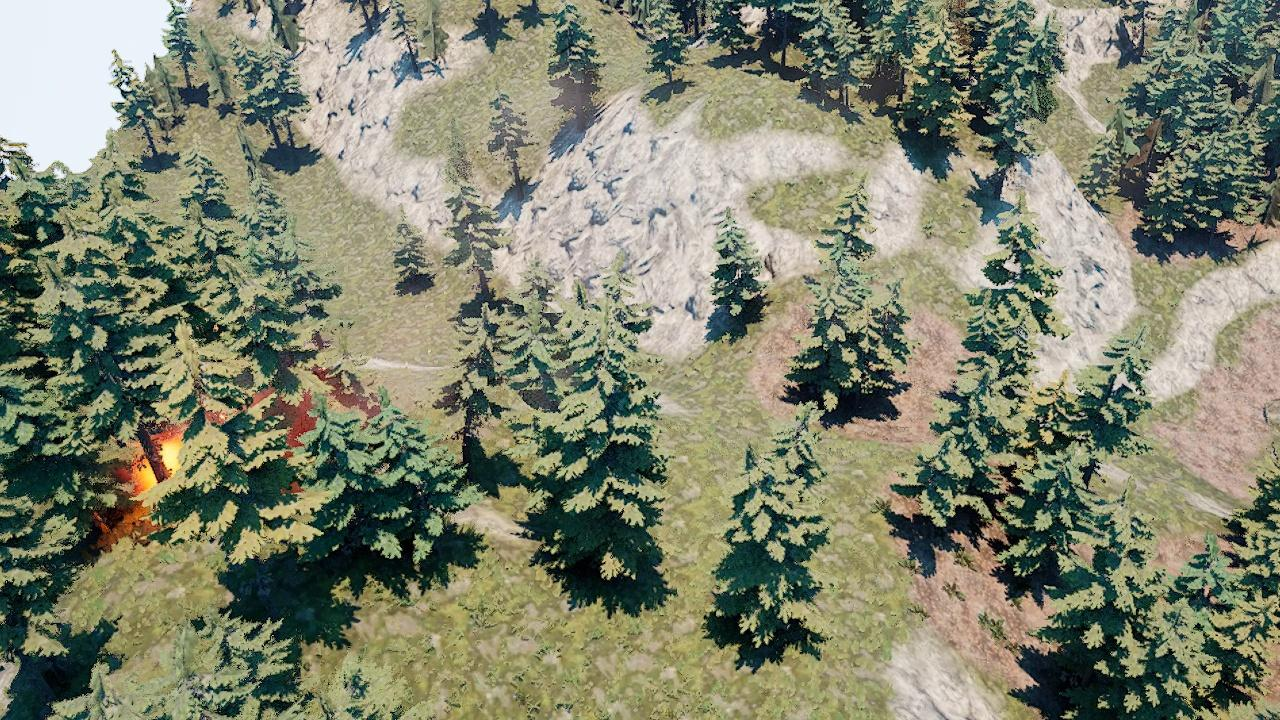fire: (130, 433, 185, 505)
